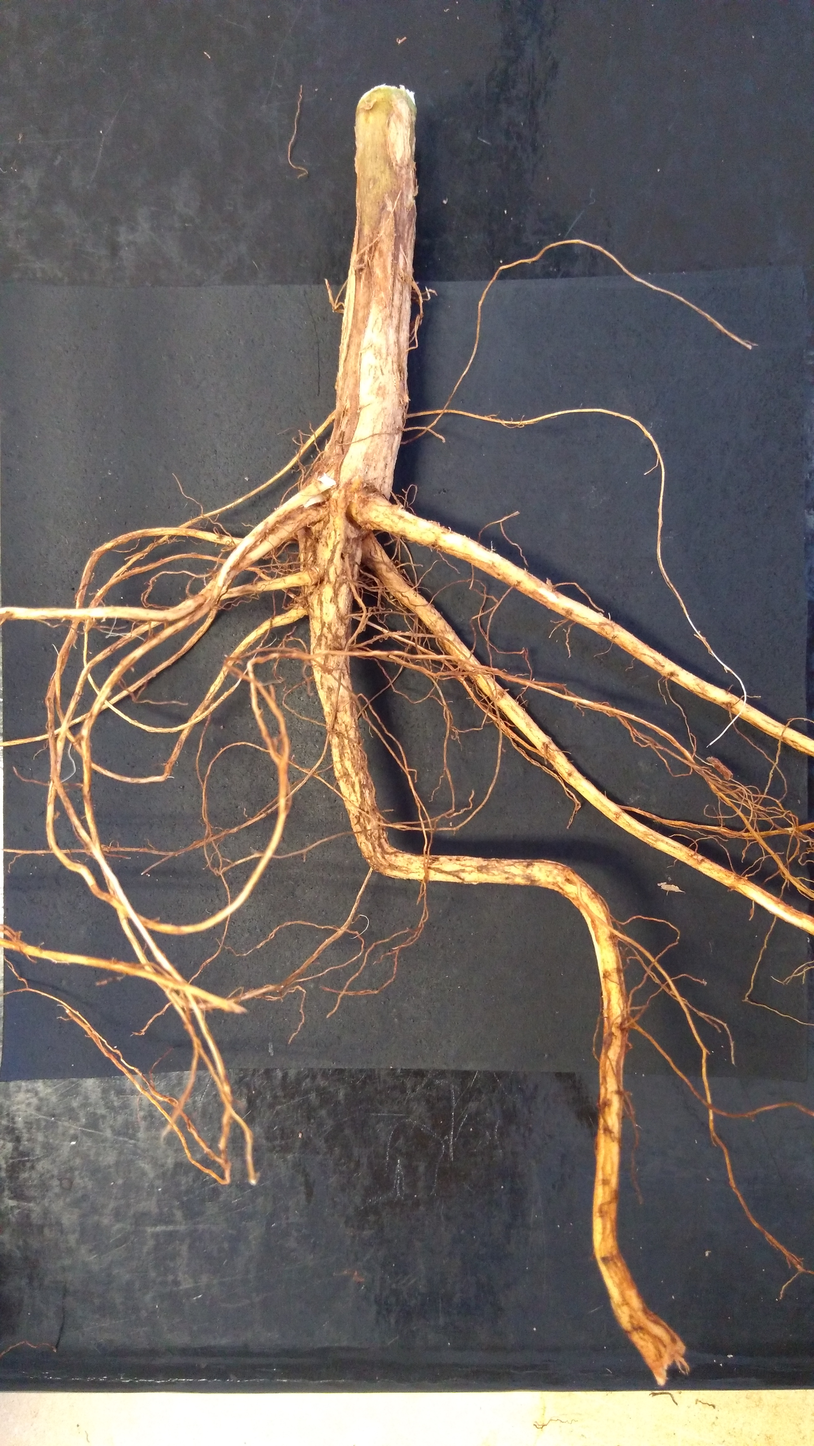nodule: (299, 475, 336, 508)
